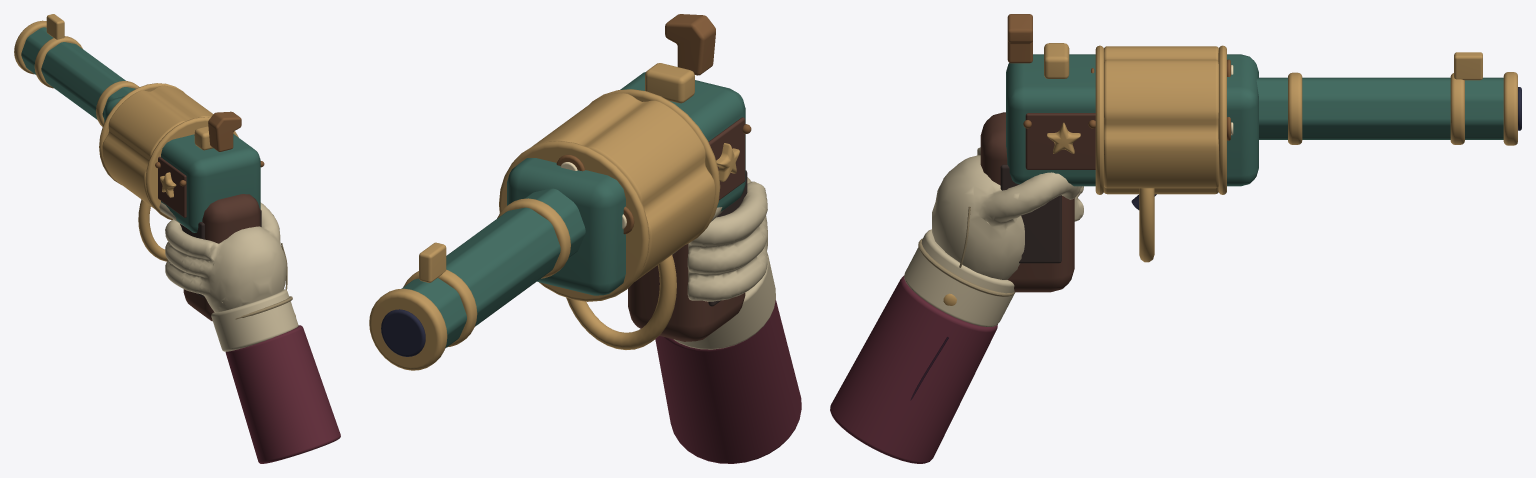
Rendered from revolver.glb.
3 renders of one model, left to right at view 1: azimuth 30°, elevation 25°; view 2: azimuth 150°, elevation 25°; view 3: azimuth 270°, elevation 25°, orthographic. The views are drawn at different scales.
Parts seen in each view (by area): view 1: revolver_Body_worker_canvas, revolver_Body_wine_velvet, revolver_Body_revolver_teal_enamel, revolver_Cylinder_revolver_brass, revolver_Body_carved_mahogany, revolver_Body_revolver_brass, revolver_Hammer_antique_gold; view 2: revolver_Body_revolver_teal_enamel, revolver_Cylinder_revolver_brass, revolver_Body_wine_velvet, revolver_Body_revolver_brass, revolver_Body_worker_canvas, revolver_Body_carved_mahogany, revolver_Hammer_antique_gold, revolver_Body_charcoal_enamel, revolver_Cylinder_antique_gold; view 3: revolver_Body_revolver_teal_enamel, revolver_Cylinder_revolver_brass, revolver_Body_wine_velvet, revolver_Body_worker_canvas, revolver_Body_carved_mahogany, revolver_Body_revolver_brass, revolver_Body_leather_inlay, revolver_Hammer_antique_gold, revolver_Body_worker_thread.
Boxes of the visible parts, x1=… form: revolver_Body_worker_canvas: x1=165, y1=202, x2=298, y2=351; revolver_Body_wine_velvet: x1=225, y1=325, x2=340, y2=463; revolver_Body_revolver_teal_enamel: x1=21, y1=27, x2=260, y2=232; revolver_Cylinder_revolver_brass: x1=99, y1=83, x2=238, y2=219; revolver_Body_carved_mahogany: x1=158, y1=156, x2=260, y2=321; revolver_Body_revolver_brass: x1=14, y1=14, x2=295, y2=316; revolver_Hammer_antique_gold: x1=208, y1=111, x2=241, y2=151; revolver_Body_revolver_teal_enamel: x1=401, y1=72, x2=745, y2=348; revolver_Cylinder_revolver_brass: x1=499, y1=89, x2=720, y2=301; revolver_Body_wine_velvet: x1=655, y1=299, x2=801, y2=463; revolver_Body_revolver_brass: x1=369, y1=63, x2=739, y2=370; revolver_Body_worker_canvas: x1=674, y1=177, x2=775, y2=349; revolver_Body_carved_mahogany: x1=628, y1=117, x2=745, y2=341; revolver_Hammer_antique_gold: x1=665, y1=14, x2=715, y2=75; revolver_Body_charcoal_enamel: x1=381, y1=309, x2=425, y2=356; revolver_Cylinder_antique_gold: x1=556, y1=154, x2=634, y2=234; revolver_Body_revolver_teal_enamel: x1=1006, y1=54, x2=1503, y2=186; revolver_Cylinder_revolver_brass: x1=1095, y1=45, x2=1226, y2=194; revolver_Body_wine_velvet: x1=830, y1=275, x2=997, y2=463; revolver_Body_worker_canvas: x1=904, y1=147, x2=1083, y2=326; revolver_Body_carved_mahogany: x1=980, y1=112, x2=1095, y2=292; revolver_Body_revolver_brass: x1=943, y1=43, x2=1517, y2=305; revolver_Body_leather_inlay: x1=1000, y1=164, x2=1061, y2=263; revolver_Hammer_antique_gold: x1=1007, y1=14, x2=1032, y2=63; revolver_Body_worker_thread: x1=918, y1=206, x2=1014, y2=296.
Size of the model in its own units: 0.4615 by 1.3 by 1.91.
